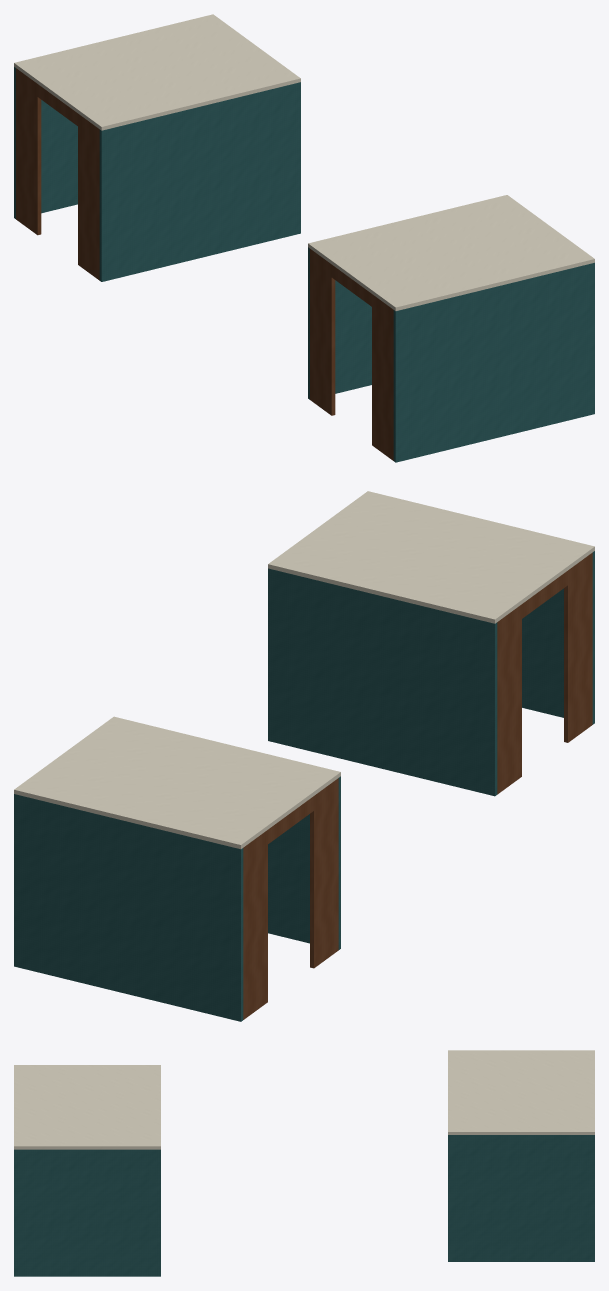
File: StarAtlasEightHabitatFittings.glb
3 views of the same model, one above another, from view 1: azimuth 30°, elevation 25°; view 2: azimuth 150°, elevation 25°; view 3: azimuth 270°, elevation 25° (orthographic). The views are drawn at different scales.
Visible parts, largest first — view 1: SA413_Cocoon_LeftLiner, SA437_Cocoon_LeftLiner, SA437_Cocoon_Roof, SA413_Cocoon_Roof, SA413_Cocoon_FrontRightJamb, SA437_Cocoon_FrontRightJamb, SA413_Cocoon_RightLiner, SA437_Cocoon_RightLiner, SA413_Cocoon_FrontLeftJamb, SA437_Cocoon_FrontLeftJamb; view 2: SA413_Cocoon_RightLiner, SA437_Cocoon_RightLiner, SA437_Cocoon_Roof, SA413_Cocoon_Roof, SA413_Cocoon_LeftLiner, SA437_Cocoon_LeftLiner, SA437_Cocoon_FrontLeftJamb, SA413_Cocoon_FrontLeftJamb, SA437_Cocoon_FrontRightJamb, SA413_Cocoon_FrontRightJamb, SA413_Cocoon_DoorHeader, SA437_Cocoon_DoorHeader; view 3: SA413_Cocoon_RearLiner, SA437_Cocoon_RearLiner, SA413_Cocoon_Roof, SA437_Cocoon_Roof, SA413_Cocoon_LeftLiner, SA413_Cocoon_RightLiner, SA437_Cocoon_LeftLiner, SA437_Cocoon_RightLiner.
Boxes of the visible parts, left/top/right/bottom form: SA413_Cocoon_LeftLiner: left=393, top=262, right=594, bottom=462; SA437_Cocoon_LeftLiner: left=99, top=82, right=300, bottom=281; SA437_Cocoon_Roof: left=14, top=14, right=300, bottom=130; SA413_Cocoon_Roof: left=308, top=195, right=594, bottom=310; SA413_Cocoon_FrontRightJamb: left=310, top=249, right=335, bottom=415; SA437_Cocoon_FrontRightJamb: left=16, top=68, right=41, bottom=235; SA413_Cocoon_RightLiner: left=308, top=247, right=371, bottom=399; SA437_Cocoon_RightLiner: left=14, top=67, right=77, bottom=218; SA413_Cocoon_FrontLeftJamb: left=372, top=294, right=393, bottom=460; SA437_Cocoon_FrontLeftJamb: left=78, top=113, right=99, bottom=280; SA413_Cocoon_RightLiner: left=268, top=568, right=497, bottom=796; SA437_Cocoon_RightLiner: left=14, top=794, right=243, bottom=1021; SA437_Cocoon_Roof: left=14, top=716, right=340, bottom=849; SA413_Cocoon_Roof: left=268, top=491, right=594, bottom=623; SA413_Cocoon_LeftLiner: left=522, top=551, right=594, bottom=724; SA437_Cocoon_LeftLiner: left=268, top=776, right=340, bottom=949; SA437_Cocoon_FrontLeftJamb: left=310, top=778, right=338, bottom=968; SA413_Cocoon_FrontLeftJamb: left=564, top=552, right=592, bottom=742; SA437_Cocoon_FrontRightJamb: left=243, top=830, right=267, bottom=1019; SA413_Cocoon_FrontRightJamb: left=497, top=604, right=521, bottom=794; SA413_Cocoon_DoorHeader: left=522, top=571, right=567, bottom=618; SA437_Cocoon_DoorHeader: left=268, top=796, right=313, bottom=843; SA413_Cocoon_RearLiner: left=17, top=1149, right=157, bottom=1276; SA437_Cocoon_RearLiner: left=451, top=1135, right=591, bottom=1261; SA413_Cocoon_Roof: left=14, top=1065, right=160, bottom=1149; SA437_Cocoon_Roof: left=448, top=1050, right=594, bottom=1134; SA413_Cocoon_LeftLiner: left=14, top=1149, right=17, bottom=1276; SA413_Cocoon_RightLiner: left=157, top=1149, right=160, bottom=1276; SA437_Cocoon_LeftLiner: left=448, top=1135, right=451, bottom=1261; SA437_Cocoon_RightLiner: left=591, top=1135, right=594, bottom=1261.
Size of the model in its own units: 3.96 by 2.5 by 10.11.
3 materials, 3 textured.
